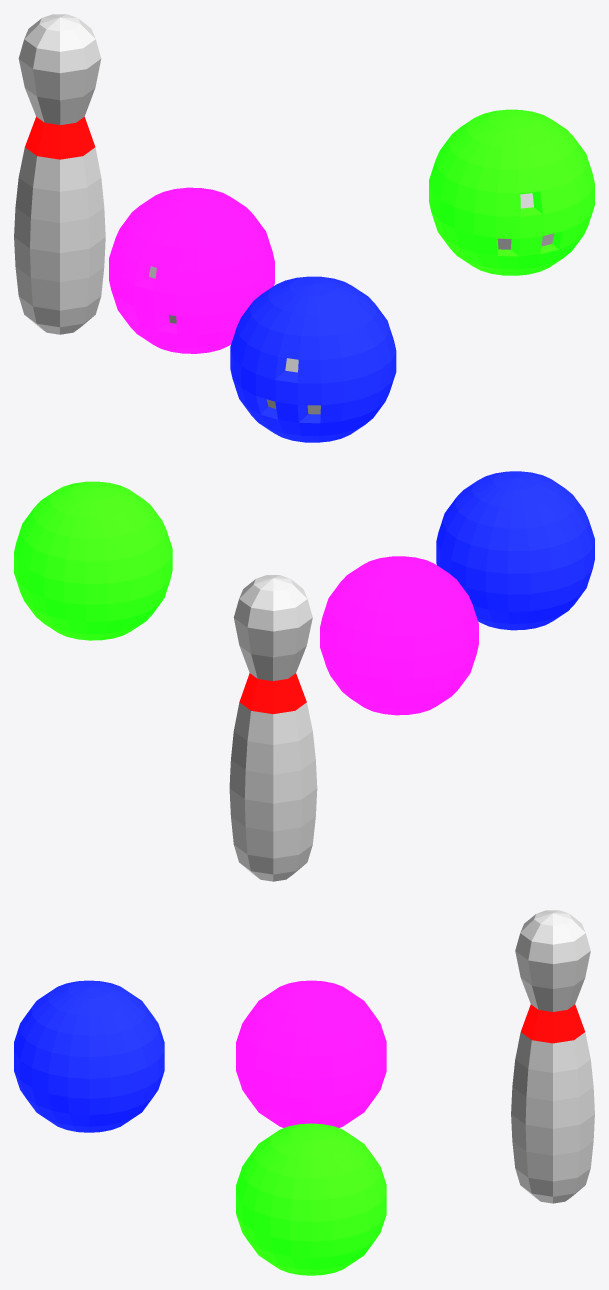
The model's file is kregle.fbx.
The picture shows the model from 3 angles, top to bottom: view 1: azimuth 30°, elevation 25°; view 2: azimuth 150°, elevation 25°; view 3: azimuth 270°, elevation 25°; orthographic projection. The views are drawn at different scales.
Visible parts, largest first — view 1: kregiel, kula, kula_1, kula_2; view 2: kregiel, kula_1, kula_2, kula; view 3: kregiel, kula, kula_1, kula_2.
Part boxes in pixels (bbox=[...]): kregiel: bbox=[14, 14, 105, 334]; kula: bbox=[230, 276, 396, 442]; kula_1: bbox=[429, 109, 594, 275]; kula_2: bbox=[109, 187, 274, 353]; kregiel: bbox=[229, 575, 317, 881]; kula_1: bbox=[14, 481, 172, 640]; kula_2: bbox=[320, 556, 478, 715]; kula: bbox=[436, 471, 594, 630]; kregiel: bbox=[511, 910, 594, 1203]; kula: bbox=[14, 980, 164, 1132]; kula_1: bbox=[236, 1123, 386, 1275]; kula_2: bbox=[236, 980, 386, 1127].
Bounding box in the file's own units: 638 × 412 × 756.
